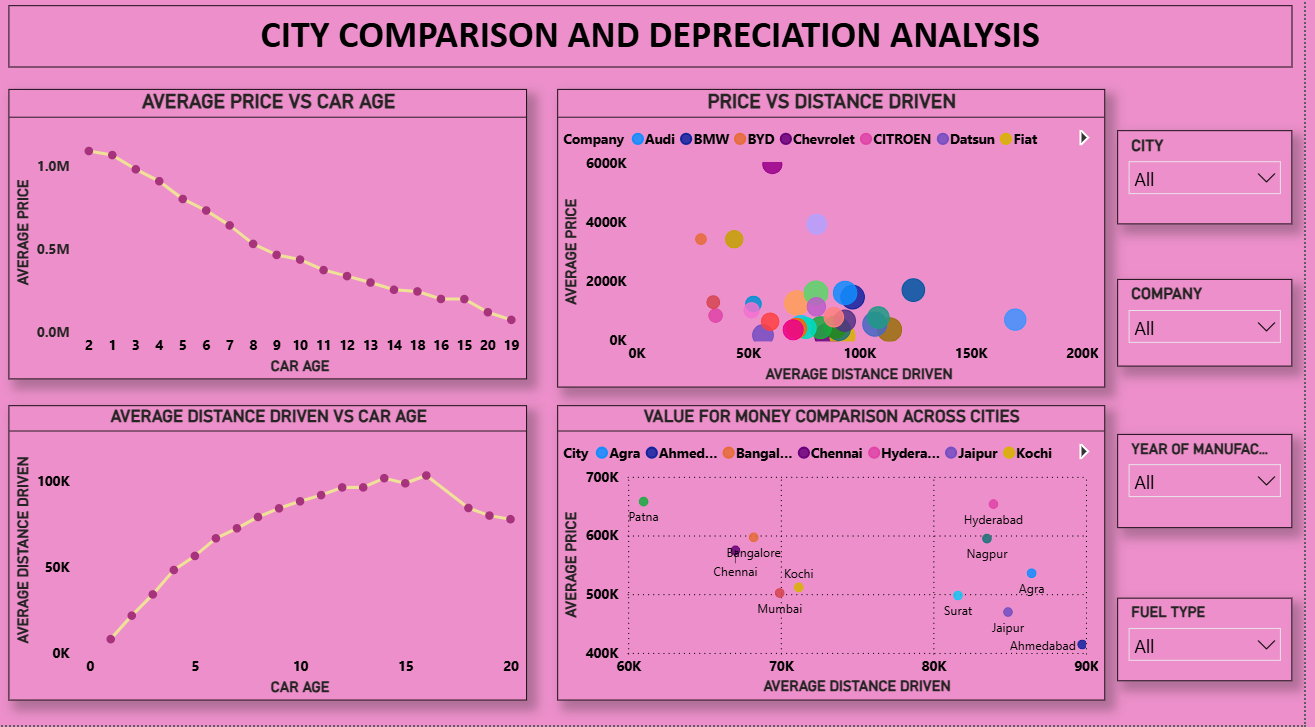

The page's visual inventory and layout, read from the dashboard file:
{"tool":"powerbi","page":{"name":"CITY COMPARISON AND DEPRECIATION ANALYSIS","canvas":[1280,720],"ordinal":2},"visuals":[{"type":"lineChart","title":"AVERAGE PRICE VS CAR AGE","fields":{"Y":["Avg(Cars24_data.Price)"],"Category":["Cars24_data.Car Age"]},"box":[12.2,97.8,507.5,283.7],"z":0},{"type":"scatterChart","title":"PRICE VS DISTANCE DRIVEN","fields":{"X":["Avg(Cars24_data.Distance Driven)"],"Y":["Avg(Cars24_data.Price)"],"Series":["Cars24_data.Company"],"Size":["Avg(Cars24_data.Car Age)"]},"box":[549.1,97.8,535.6,292.3],"z":1000},{"type":"lineChart","title":"AVERAGE DISTANCE DRIVEN VS CAR AGE","fields":{"Category":["Cars24_data.Car Age"],"Y":["Avg(Cars24_data.Distance Driven)"]},"box":[12.2,407.2,507.5,288.6],"z":2000},{"type":"scatterChart","title":"VALUE FOR MONEY COMPARISON ACROSS CITIES","fields":{"X":["Avg(Cars24_data.Distance Driven)"],"Y":["Avg(Cars24_data.Price)"],"Series":["Cars24_data.City"]},"box":[549.1,407.2,535.6,288.6],"z":3000},{"type":"textbox","box":[12.2,15.9,1255.8,61.1],"z":4000},{"type":"slicer","fields":{"Values":["Cars24_data.Company"]},"box":[1096.9,283.7,171.2,85.6],"z":5000},{"type":"slicer","fields":{"Values":["Cars24_data.Year of Manufacture"]},"box":[1096.9,435.3,171.2,91.7],"z":6000},{"type":"slicer","fields":{"Values":["Cars24_data.Fuel Type"]},"box":[1096.9,595.5,171.2,81.9],"z":7000},{"type":"slicer","fields":{"Values":["Cars24_data.City"]},"box":[1096.9,138.2,171.2,91.7],"z":8000}]}

Visuals, with their boxes in screenshot pixels (x1, y1, x2, y2), scaled from the page's 1280x720 canvas onto the 1315x727 screenshot:
"AVERAGE PRICE VS CAR AGE" lineChart: [13, 99, 534, 385]
"PRICE VS DISTANCE DRIVEN" scatterChart: [564, 99, 1114, 394]
"AVERAGE DISTANCE DRIVEN VS CAR AGE" lineChart: [13, 411, 534, 703]
"VALUE FOR MONEY COMPARISON ACROSS CITIES" scatterChart: [564, 411, 1114, 703]
textbox: [13, 16, 1303, 78]
slicer - Cars24_data.Company: [1127, 286, 1303, 373]
slicer - Cars24_data.Year of Manufacture: [1127, 440, 1303, 532]
slicer - Cars24_data.Fuel Type: [1127, 601, 1303, 684]
slicer - Cars24_data.City: [1127, 140, 1303, 232]
